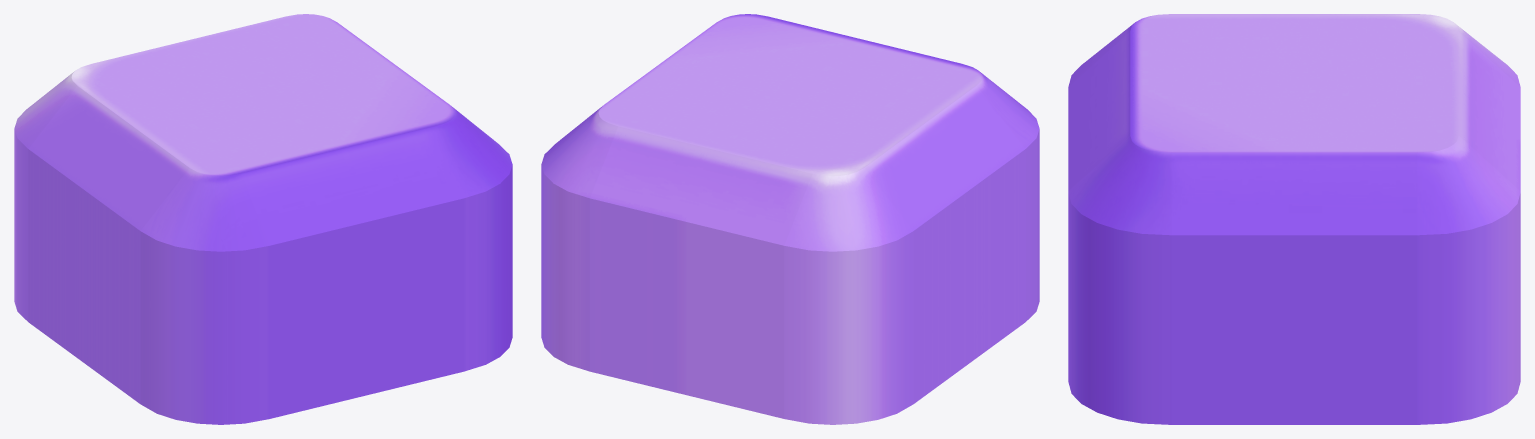
File: Block_1x1_Purple.glb
The picture shows the model from 3 angles, left to right: view 1: azimuth 30°, elevation 25°; view 2: azimuth 150°, elevation 25°; view 3: azimuth 270°, elevation 25°; orthographic projection. The views are drawn at different scales.
Visible parts, largest first — view 1: Edge_Bottom, FrontFace, Edge_Left, Corner_BottomLeft, Corner_BottomRight, Corner_TopLeft; view 2: Edge_Top, FrontFace, Edge_Left, Corner_TopLeft, Corner_TopRight, Corner_BottomLeft; view 3: Edge_Right, FrontFace, Corner_TopRight, Corner_BottomRight, Edge_Top, Edge_Bottom, Corner_TopLeft, Corner_BottomLeft.
Boxes of the visible parts, x1=… form: Edge_Bottom: x1=241, y1=126, x2=463, y2=418; FrontFace: x1=71, y1=14, x2=455, y2=176; Edge_Left: x1=28, y1=86, x2=189, y2=403; Corner_BottomLeft: x1=140, y1=168, x2=269, y2=424; Corner_BottomRight: x1=436, y1=106, x2=512, y2=371; Corner_TopLeft: x1=14, y1=71, x2=77, y2=321; Edge_Top: x1=590, y1=126, x2=812, y2=418; FrontFace: x1=598, y1=14, x2=982, y2=176; Edge_Left: x1=864, y1=86, x2=1025, y2=403; Corner_TopLeft: x1=784, y1=168, x2=913, y2=424; Corner_TopRight: x1=541, y1=106, x2=617, y2=371; Corner_BottomLeft: x1=976, y1=71, x2=1039, y2=321; Edge_Right: x1=1171, y1=153, x2=1417, y2=424; FrontFace: x1=1130, y1=14, x2=1458, y2=152; Corner_TopRight: x1=1417, y1=135, x2=1520, y2=424; Corner_BottomRight: x1=1068, y1=135, x2=1171, y2=424; Edge_Top: x1=1458, y1=32, x2=1520, y2=190; Edge_Bottom: x1=1068, y1=32, x2=1130, y2=190; Corner_TopLeft: x1=1453, y1=22, x2=1520, y2=86; Corner_BottomLeft: x1=1068, y1=22, x2=1135, y2=86.
Bounding box in the file's own units: 1 × 0.5995 × 1.
Materials: 1 (1 with a texture image).
